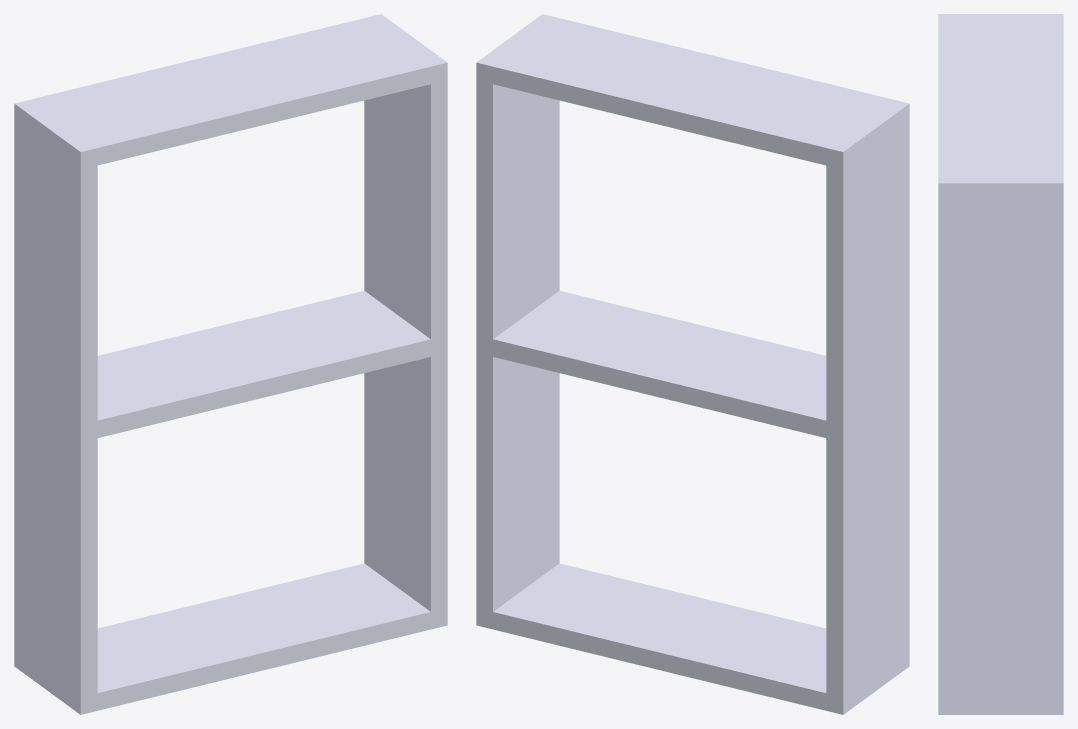
The model's file is 8c332a14-5970-4846-ac83-ee74cbe4ea0c.glb.
3 renders of one model, left to right at view 1: azimuth 30°, elevation 25°; view 2: azimuth 150°, elevation 25°; view 3: azimuth 270°, elevation 25°, orthographic. The views are drawn at different scales.
Parts seen in each view (by area): view 1: 8_AlphaProta_Grey; view 2: 8_AlphaProta_Grey; view 3: 8_AlphaProta_Grey.
Boxes of the visible parts, x1=… form: 8_AlphaProta_Grey: x1=14, y1=14, x2=447, y2=714; 8_AlphaProta_Grey: x1=476, y1=14, x2=909, y2=714; 8_AlphaProta_Grey: x1=938, y1=14, x2=1063, y2=714.
Size of what is drawn, in the model's own units: 0.1436 by 0.2105 by 0.045.
Materials: 2 (2 with a texture image).
